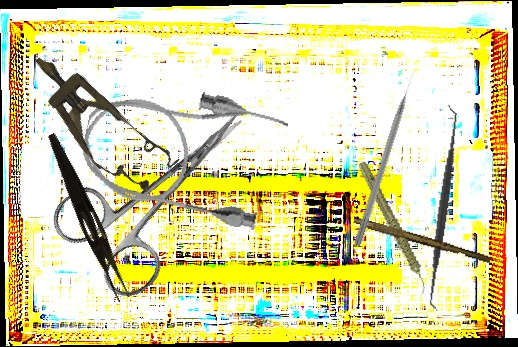Cannula: (73, 69, 291, 234)
Dressing Forceps: (38, 131, 137, 303)
Handpiece: (356, 153, 429, 303)
Iris Scissors: (43, 75, 284, 308)
Pusher: (353, 68, 420, 248)
Scalpel Handle: (351, 216, 493, 265)
Spatula Surgical: (417, 103, 469, 312)
Speculum: (14, 36, 180, 205)
